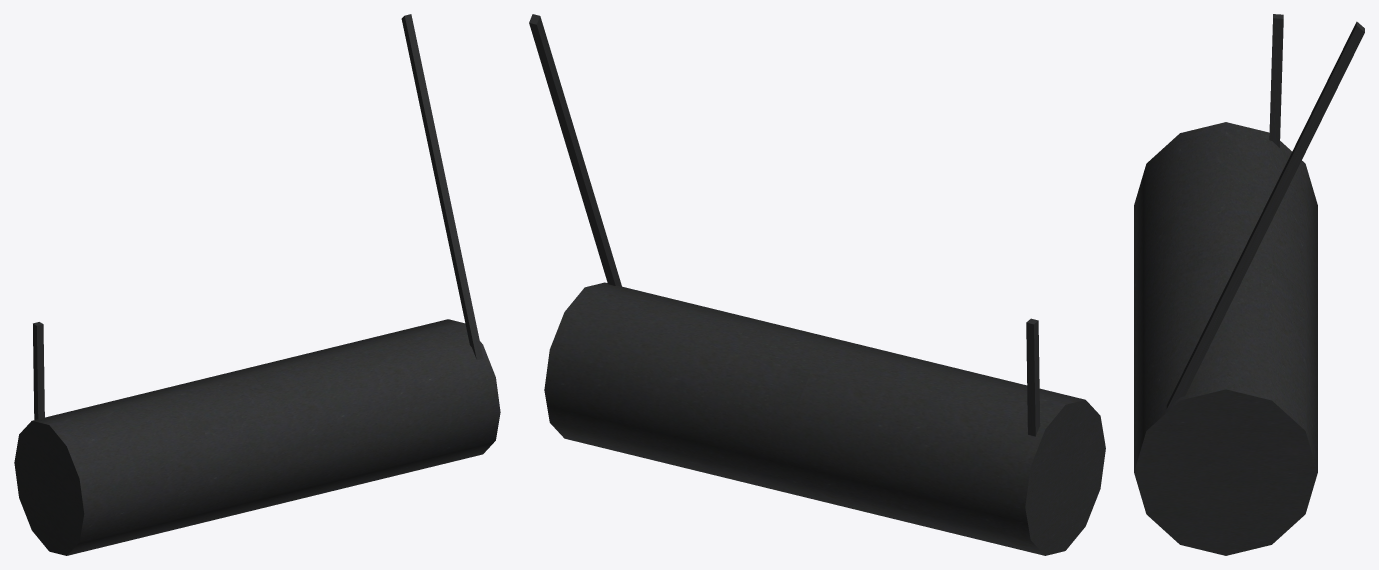
Rendered from Cover_Spring.dae.
The picture shows the model from 3 angles, left to right: view 1: azimuth 30°, elevation 25°; view 2: azimuth 150°, elevation 25°; view 3: azimuth 270°, elevation 25°; orthographic projection. The views are drawn at different scales.
Parts seen in each view (by area): view 1: Cover_Spring; view 2: Cover_Spring; view 3: Cover_Spring.
Boxes of the visible parts, x1=… form: Cover_Spring: x1=14, y1=14, x2=500, y2=555; Cover_Spring: x1=529, y1=14, x2=1105, y2=555; Cover_Spring: x1=1134, y1=14, x2=1364, y2=555.
Bounding box in the file's own units: 0.0161 × 0.00587 × 0.0148.
Materials: 1 (1 with a texture image).
